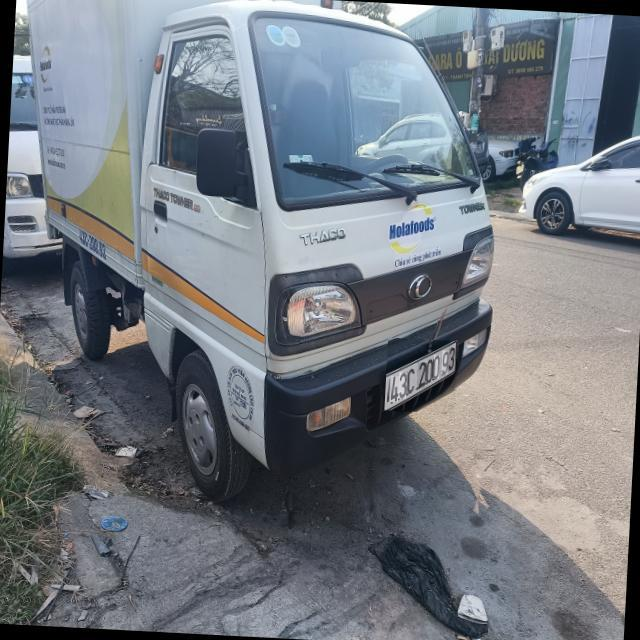car: (27, 1, 505, 517), (518, 127, 640, 250)
plate: (380, 339, 461, 413)
